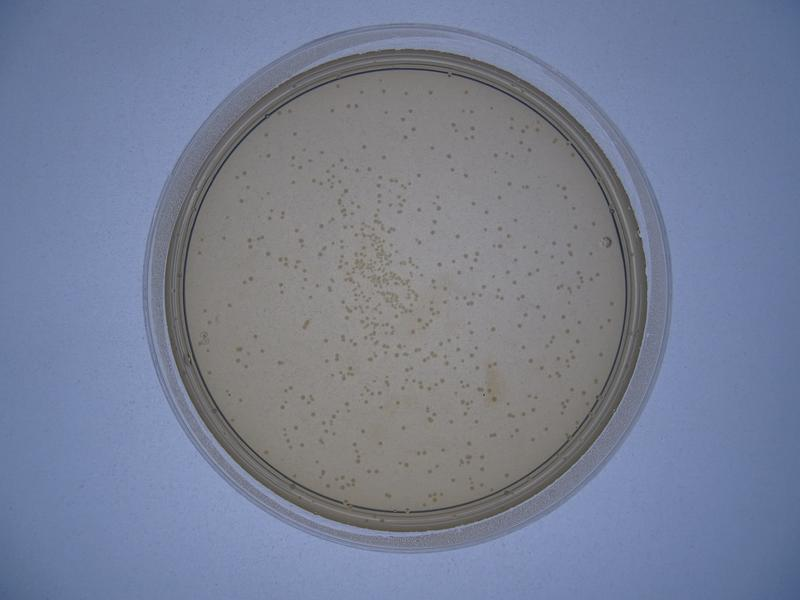colony: (352, 133, 371, 151), (323, 103, 344, 119), (220, 297, 238, 313), (426, 225, 443, 241), (214, 226, 230, 243), (274, 354, 288, 373), (482, 322, 501, 335), (440, 147, 455, 163), (463, 196, 479, 210), (319, 354, 333, 370), (287, 419, 303, 433), (424, 138, 438, 153), (313, 217, 327, 232), (493, 220, 507, 235), (435, 441, 448, 457), (355, 425, 372, 437), (492, 190, 506, 204), (424, 85, 438, 99), (431, 256, 445, 270), (260, 246, 274, 260), (394, 111, 407, 126), (233, 193, 246, 208), (509, 254, 524, 267), (517, 305, 530, 320), (418, 465, 434, 477), (572, 314, 584, 330), (459, 169, 473, 182), (524, 431, 538, 444), (517, 338, 530, 352), (375, 436, 387, 451), (286, 129, 302, 140), (304, 408, 320, 419), (412, 203, 425, 216), (514, 320, 527, 333), (376, 150, 388, 164), (262, 149, 274, 163), (546, 236, 560, 248), (462, 437, 476, 449), (468, 414, 480, 428), (314, 146, 329, 157), (509, 215, 521, 228), (451, 230, 464, 242), (396, 420, 408, 433), (391, 396, 403, 409), (291, 221, 302, 235), (531, 245, 542, 259), (394, 382, 408, 393), (274, 277, 288, 288), (504, 177, 514, 192), (414, 168, 425, 181), (254, 345, 267, 356), (249, 327, 260, 340), (466, 120, 477, 133), (373, 402, 386, 413), (481, 205, 492, 218), (307, 174, 318, 187), (285, 177, 299, 187), (490, 147, 500, 161), (561, 324, 571, 338), (341, 396, 351, 410), (379, 108, 391, 119), (569, 220, 580, 232), (466, 327, 477, 339), (407, 325, 418, 337), (318, 335, 331, 345), (572, 333, 582, 346), (509, 275, 519, 288), (585, 247, 595, 260), (453, 266, 463, 279), (476, 451, 487, 462), (524, 355, 535, 366), (522, 267, 533, 278), (444, 417, 456, 427), (557, 309, 567, 321), (564, 239, 575, 249), (400, 87, 412, 96), (311, 281, 320, 289), (410, 124, 417, 134)
